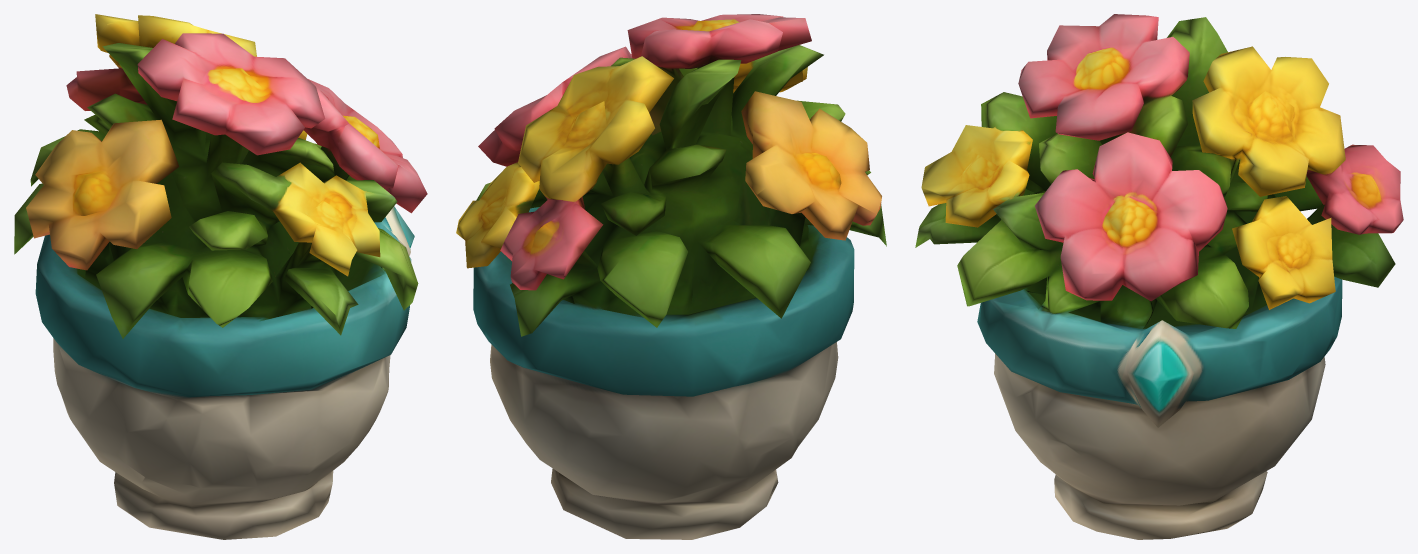
Rendered from Kit_X_FlowerPot_raw.glb.
The picture shows the model from 3 angles, left to right: view 1: azimuth 30°, elevation 25°; view 2: azimuth 150°, elevation 25°; view 3: azimuth 270°, elevation 25°; orthographic projection. The views are drawn at different scales.
Visible parts, largest first — view 1: tripo_node_26d4a157-aebe-4cbf-898e-e3b036cd9112; view 2: tripo_node_26d4a157-aebe-4cbf-898e-e3b036cd9112; view 3: tripo_node_26d4a157-aebe-4cbf-898e-e3b036cd9112.
Part boxes in pixels (left/top/right/bottom): tripo_node_26d4a157-aebe-4cbf-898e-e3b036cd9112: left=14, top=14, right=427, bottom=539; tripo_node_26d4a157-aebe-4cbf-898e-e3b036cd9112: left=456, top=14, right=886, bottom=539; tripo_node_26d4a157-aebe-4cbf-898e-e3b036cd9112: left=915, top=14, right=1403, bottom=539.
Size of the model in its own units: 0.8418 by 1 by 0.9779.
Materials: 1 (1 with a texture image).
